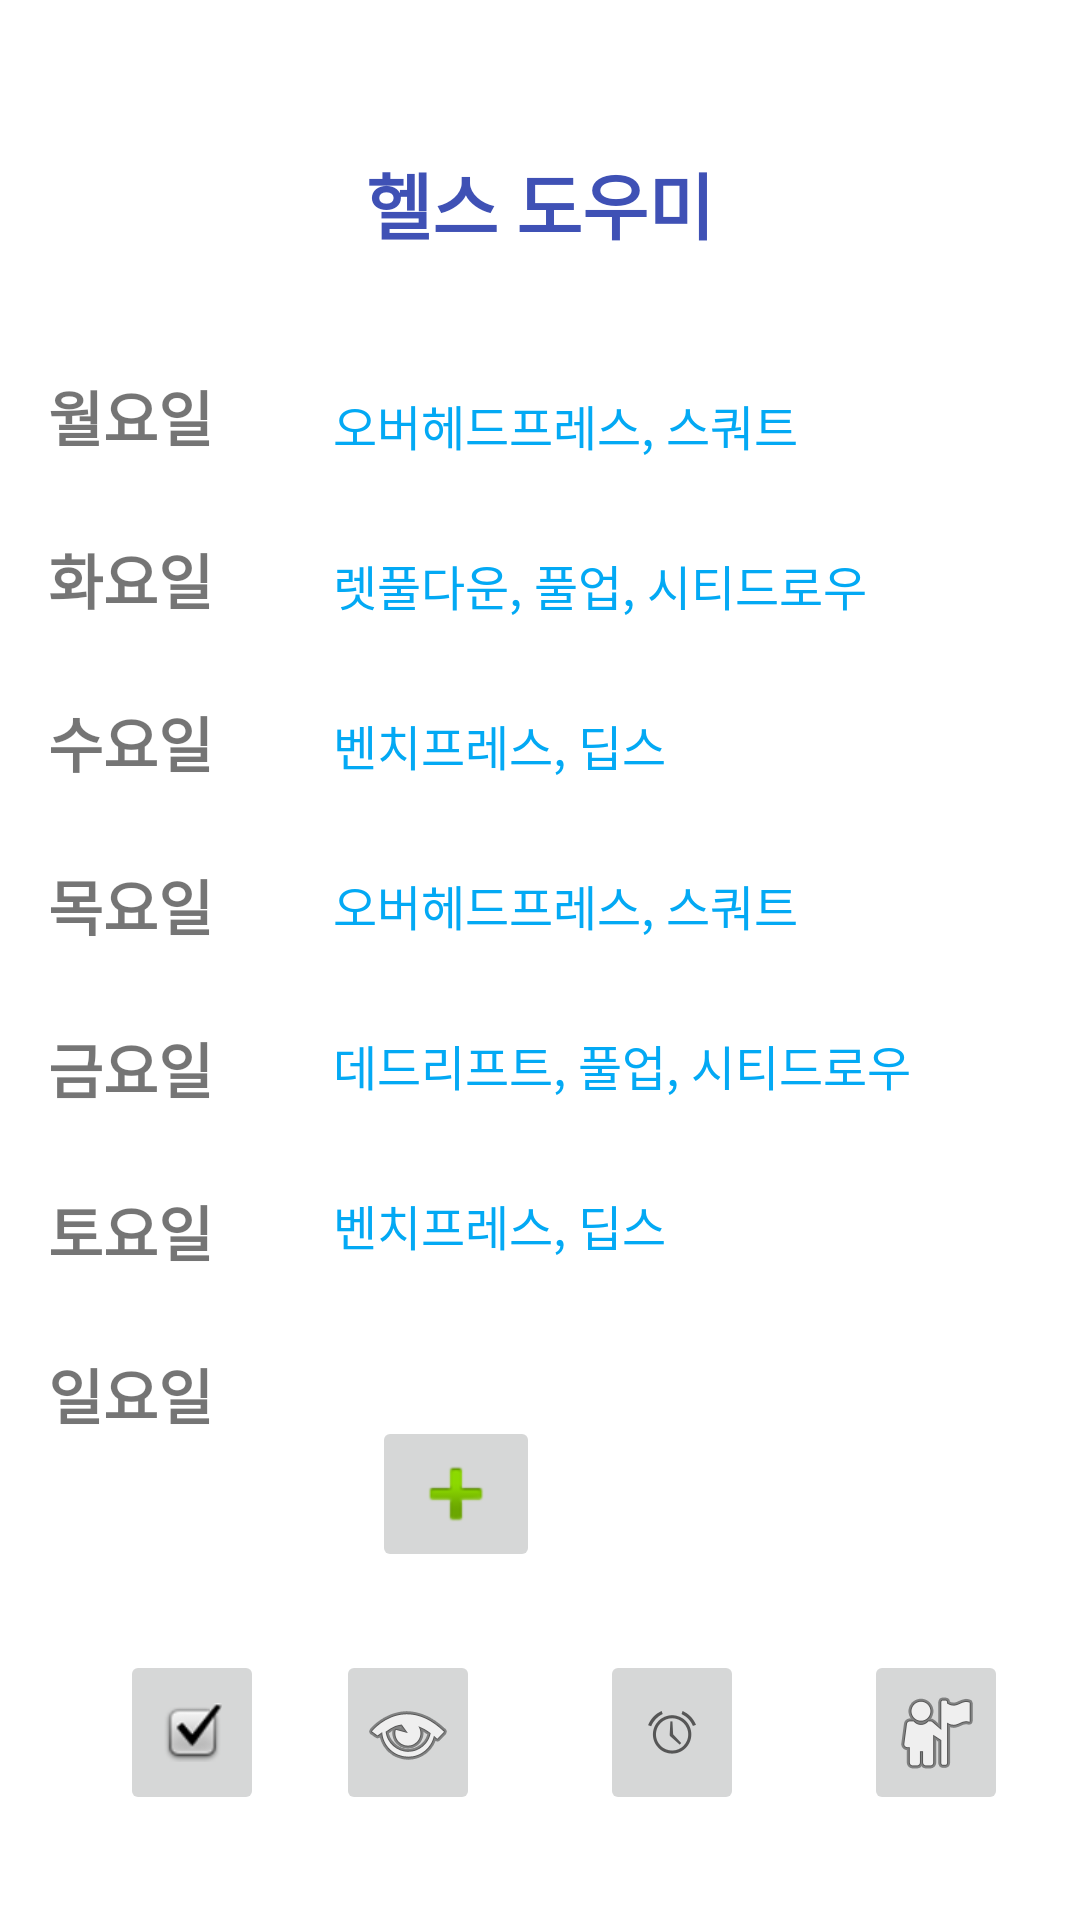

Point at icon controls on the screen. Image size 1080*1920, points as (x=x, y=y).
추가: (x=456, y=1494)
